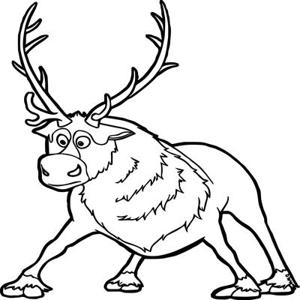sven: (9, 7, 290, 299)
